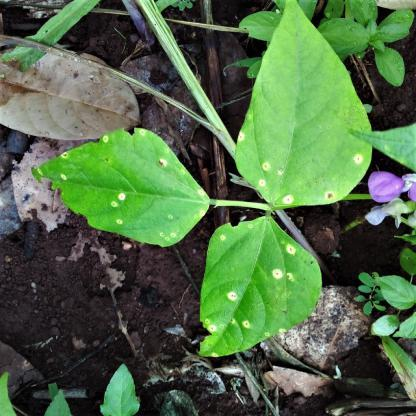Beans_Rust: (232, 1, 369, 209), (38, 126, 208, 250), (204, 216, 326, 360)
